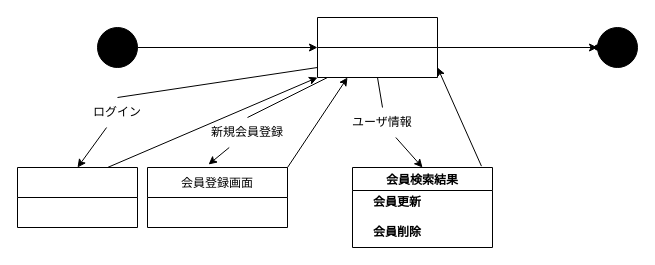
Some shapes in this 655 by 265 pixel diagram are drawn without their labels. Here are the shapes that lost their labels. From the top down, the box of each, then its label:
(316, 16, 438, 78): たゆとら
(16, 166, 138, 228): ログイン画面
